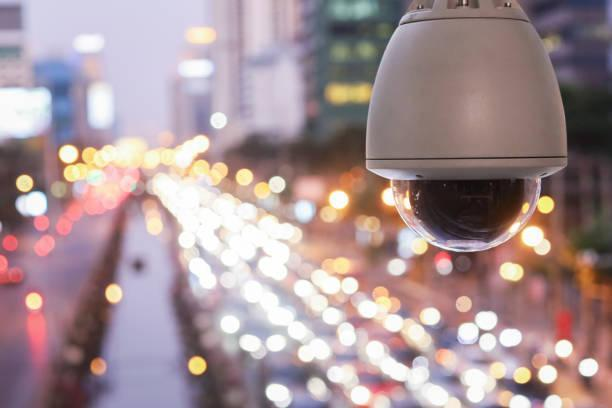camera: (322, 0, 595, 260)
